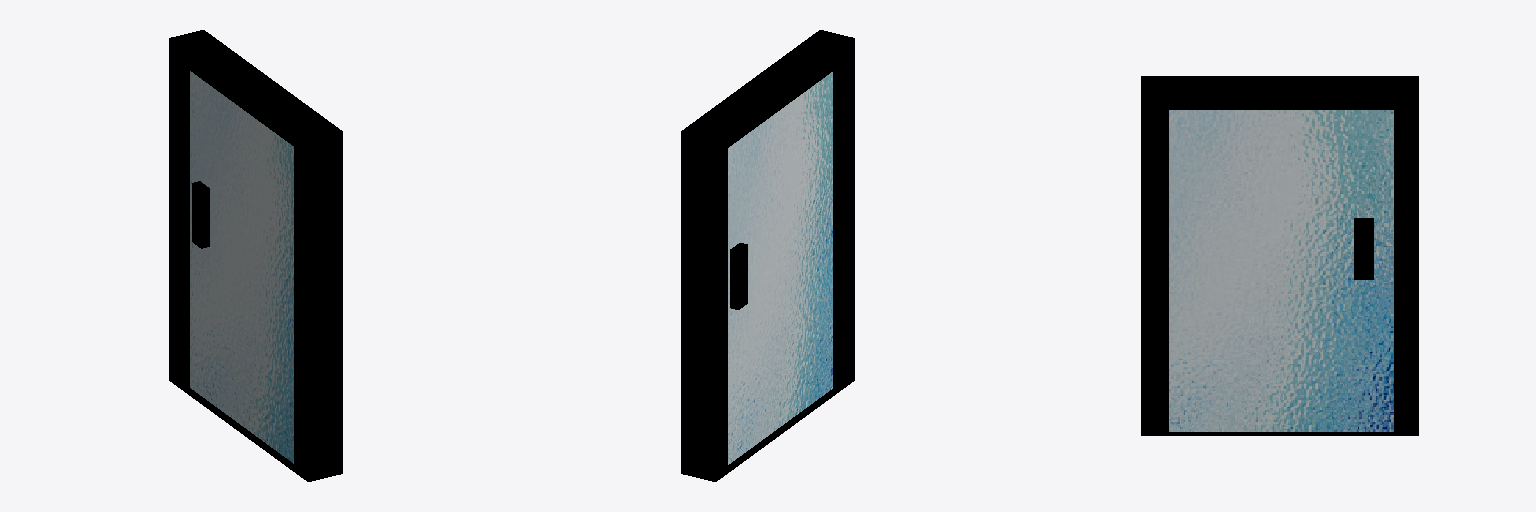
3 renders of one model, left to right at view 1: azimuth 30°, elevation 25°; view 2: azimuth 150°, elevation 25°; view 3: azimuth 270°, elevation 25°, orthographic.
Visible parts, largest first — view 1: Cube; view 2: Cube; view 3: Cube.
Boxes of the visible parts, x1=… form: Cube: x1=169, y1=30, x2=342, y2=481; Cube: x1=681, y1=30, x2=854, y2=481; Cube: x1=1141, y1=76, x2=1418, y2=435.
Bounding box in the file's own units: 0.4374 × 4.1 × 3.02.
Materials: 1 (1 with a texture image).